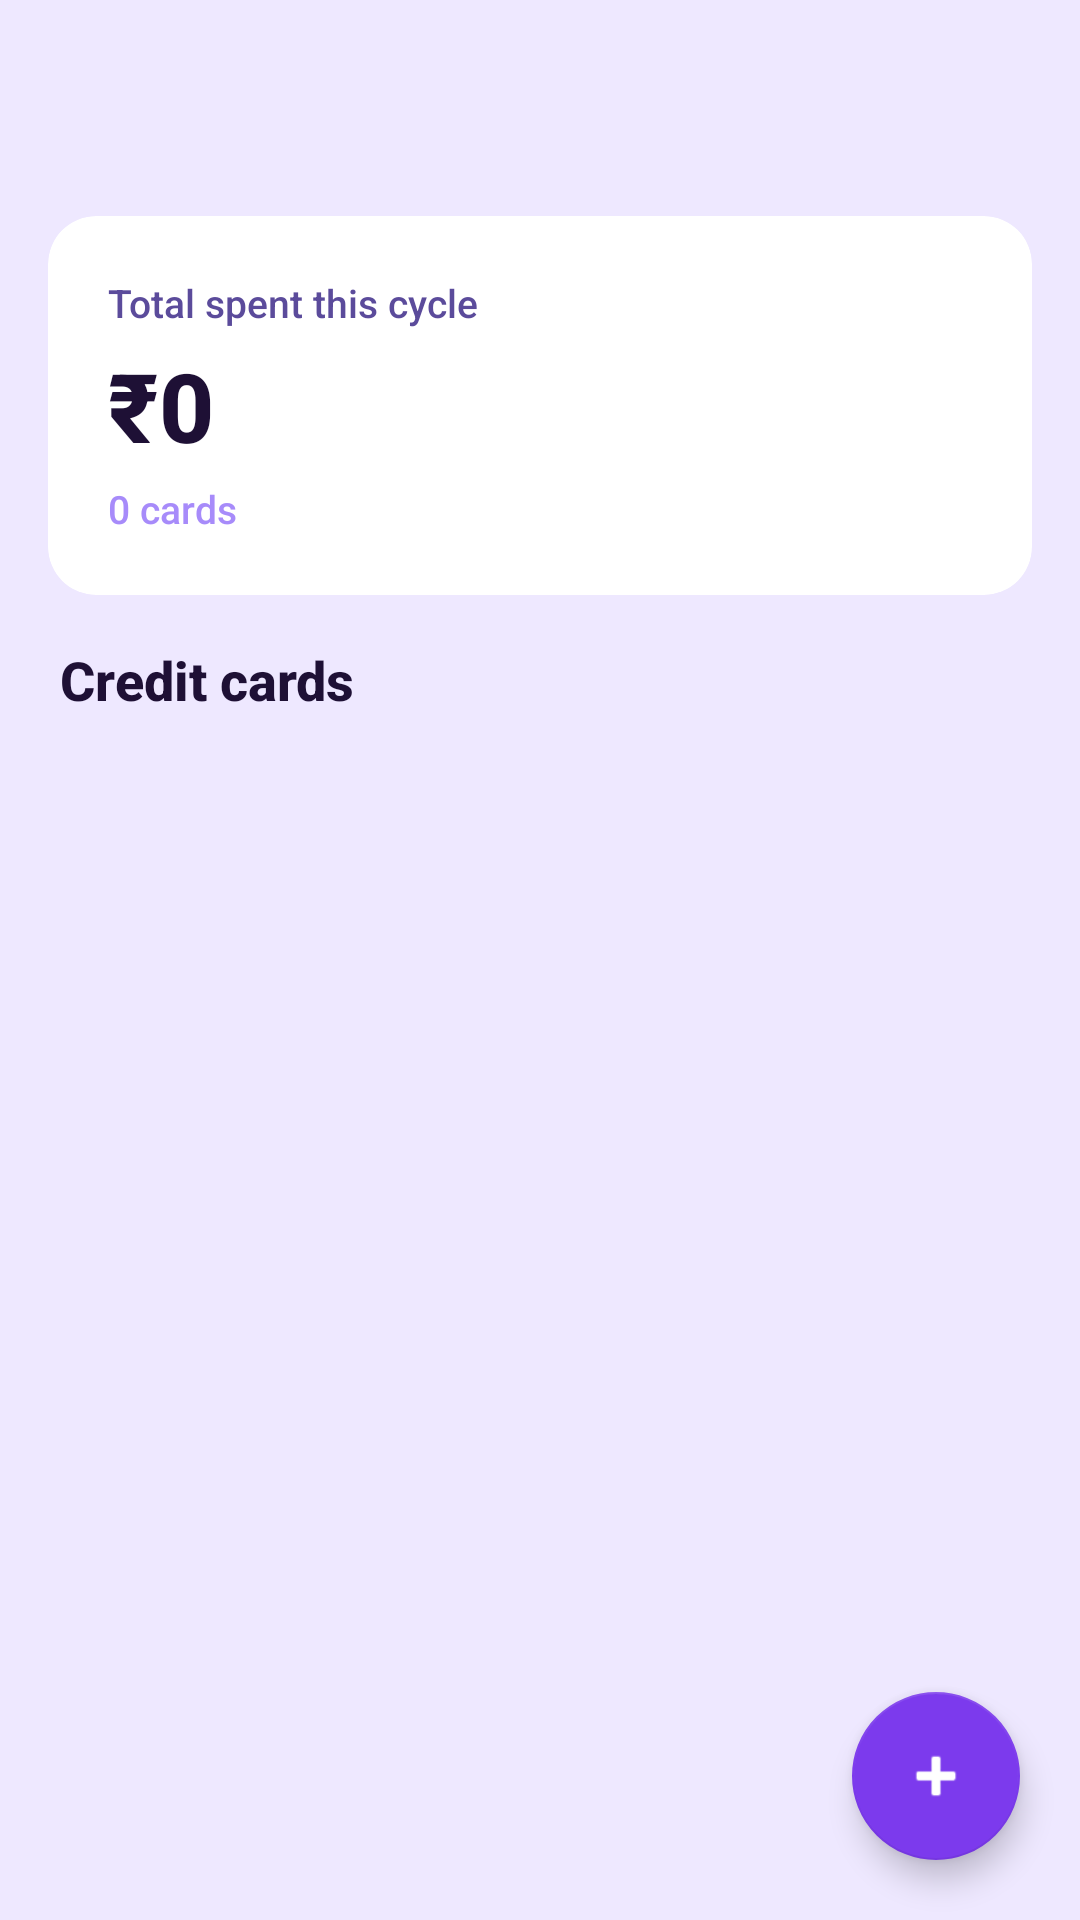

Icon bounding boxes for this 1080px x 1920px phone screenshot, format Rect(x1, y1, x2, y2):
Add credit card: Rect(852, 1692, 1020, 1860)
